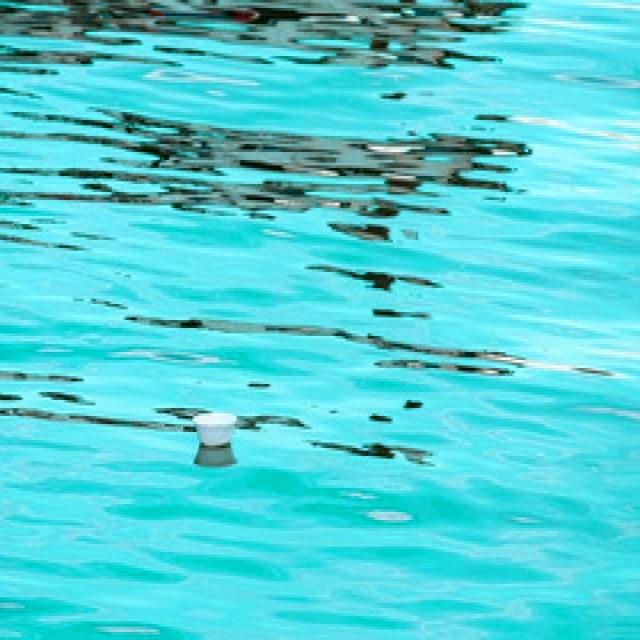Plastic: (187, 410, 237, 450)
